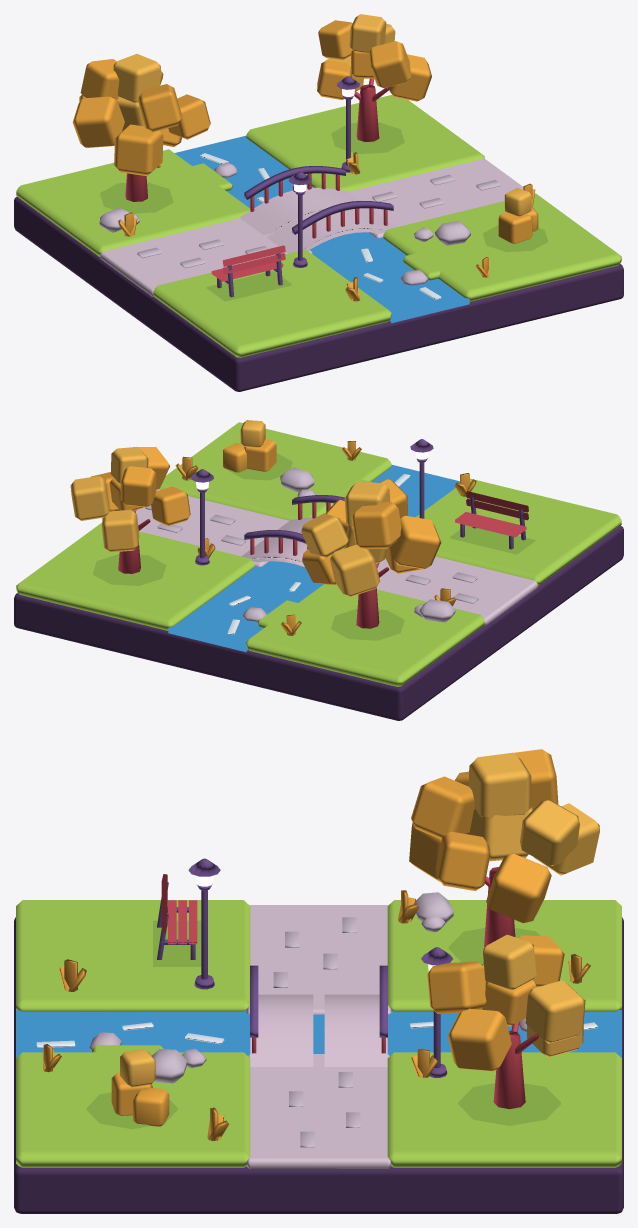
The model's file is park.glb.
The picture shows the model from 3 angles, top to bottom: view 1: azimuth 30°, elevation 25°; view 2: azimuth 150°, elevation 25°; view 3: azimuth 270°, elevation 25°; orthographic projection. The views are drawn at different scales.
Visible parts, largest first — view 1: Park_Grass, Park_Base, Park_Paving, Park_Leaf, Park_Water, Park_GrassShadow, Park_Leaf2, Park_Red, Park_Purple, Park_Rock, Park_Foam; view 2: Park_Grass, Park_Base, Park_Leaf, Park_Paving, Park_Leaf2, Park_Water, Park_GrassShadow, Park_Red, Park_Rock, Park_Purple; view 3: Park_Grass, Park_Paving, Park_Base, Park_Leaf, Park_Leaf2, Park_Water, Park_GrassShadow, Park_Rock, Park_Red, Park_Purple, Park_Foam.
Boxes of the visible parts, bbox=[...] form: Park_Grass: bbox=[16, 95, 621, 357]; Park_Base: bbox=[14, 197, 623, 391]; Park_Paving: bbox=[100, 158, 523, 296]; Park_Leaf: bbox=[72, 20, 538, 301]; Park_Water: bbox=[174, 135, 469, 322]; Park_GrassShadow: bbox=[100, 122, 547, 301]; Park_Leaf2: bbox=[79, 14, 531, 216]; Park_Red: bbox=[125, 78, 389, 281]; Park_Purple: bbox=[217, 76, 393, 297]; Park_Rock: bbox=[99, 162, 500, 285]; Park_Foam: bbox=[200, 153, 441, 299]; Park_Grass: bbox=[16, 422, 621, 686]; Park_Base: bbox=[14, 526, 623, 720]; Park_Leaf: bbox=[90, 439, 476, 635]; Park_Paving: bbox=[136, 489, 537, 625]; Park_Leaf2: bbox=[70, 420, 390, 596]; Park_Water: bbox=[168, 465, 459, 651]; Park_GrassShadow: bbox=[93, 453, 535, 640]; Park_Red: bbox=[118, 491, 528, 628]; Park_Rock: bbox=[145, 467, 478, 622]; Park_Purple: bbox=[191, 439, 525, 565]; Park_Grass: bbox=[16, 900, 621, 1167]; Park_Paving: bbox=[246, 905, 391, 1168]; Park_Base: bbox=[14, 917, 623, 1213]; Park_Leaf: bbox=[43, 749, 590, 1140]; Park_Leaf2: bbox=[120, 752, 599, 1087]; Park_Water: bbox=[16, 1010, 621, 1057]; Park_GrassShadow: bbox=[86, 920, 560, 1129]; Park_Rock: bbox=[89, 892, 526, 1147]; Park_Red: bbox=[161, 867, 538, 1109]; Park_Purple: bbox=[157, 858, 452, 1077]; Park_Foam: bbox=[36, 1021, 597, 1047].
Size of the model in its own units: 3.2 by 1.44 by 3.2.
